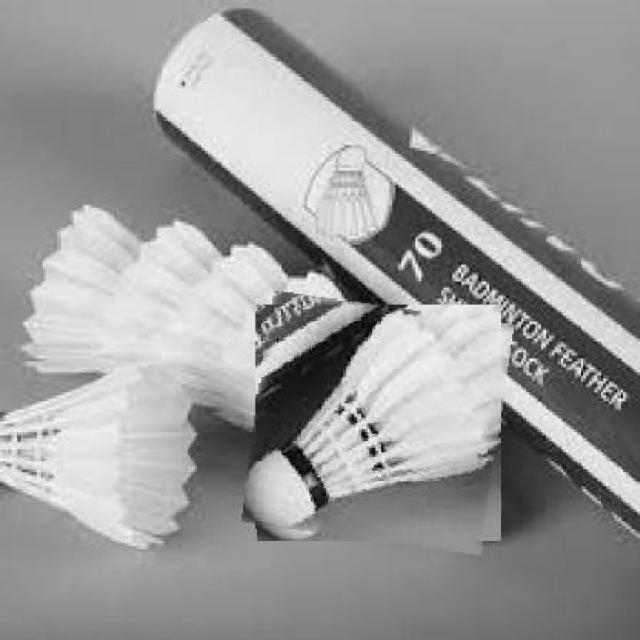Shuttlecock: (245, 307, 494, 528)
